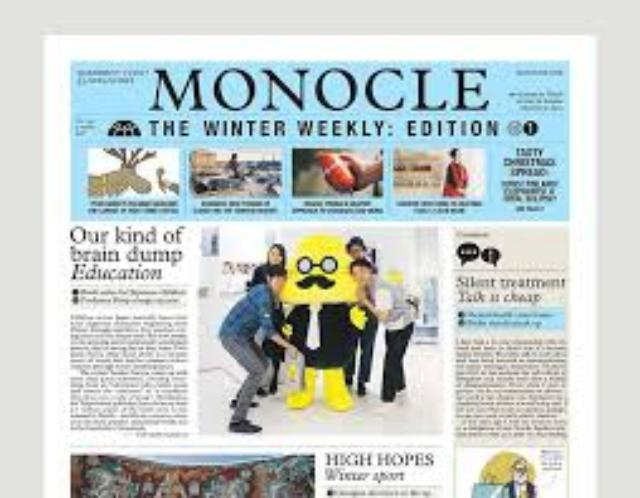cardboard paper: (43, 33, 592, 494)
